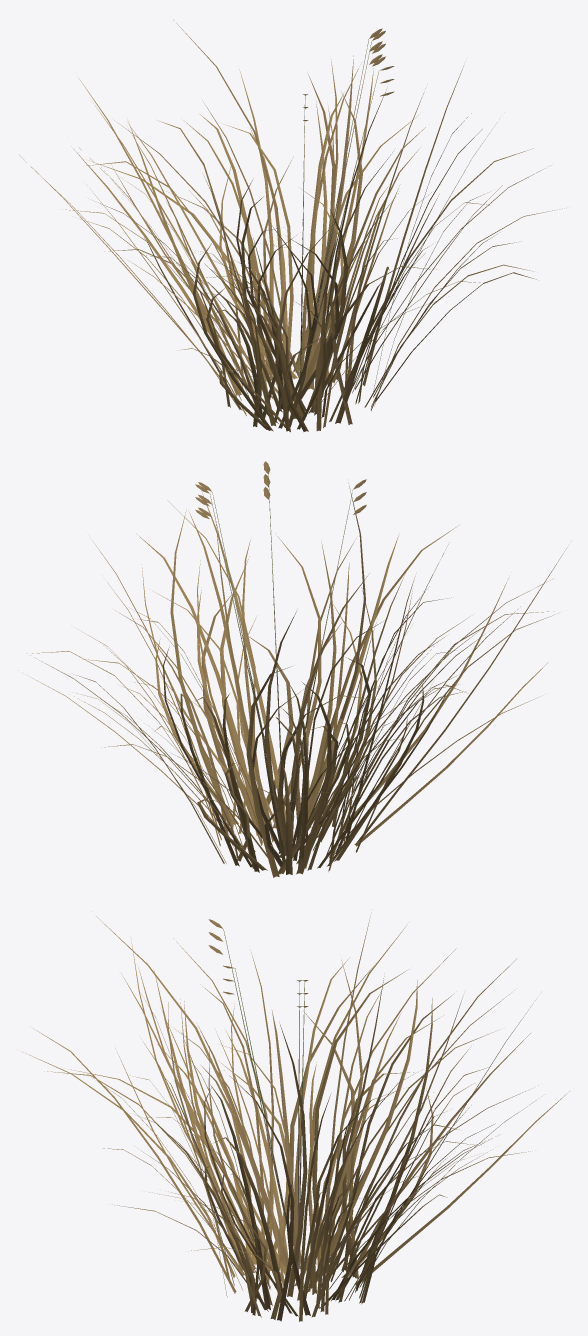
Rendered from SM_CN_Grass_A.glb.
3 views of the same model, one above another, from view 1: azimuth 30°, elevation 25°; view 2: azimuth 150°, elevation 25°; view 3: azimuth 270°, elevation 25° (orthographic).
Parts seen in each view (by area): view 1: SM_CN_Grass_A; view 2: SM_CN_Grass_A; view 3: SM_CN_Grass_A.
Part boxes in pixels (x1=…): SM_CN_Grass_A: x1=19, y1=19, x2=562, y2=432; SM_CN_Grass_A: x1=18, y1=461, x2=567, y2=877; SM_CN_Grass_A: x1=23, y1=911, x2=569, y2=1321.
Size of the model in its own units: 0.5573 by 0.43 by 0.62.
1 material, 1 textured.
